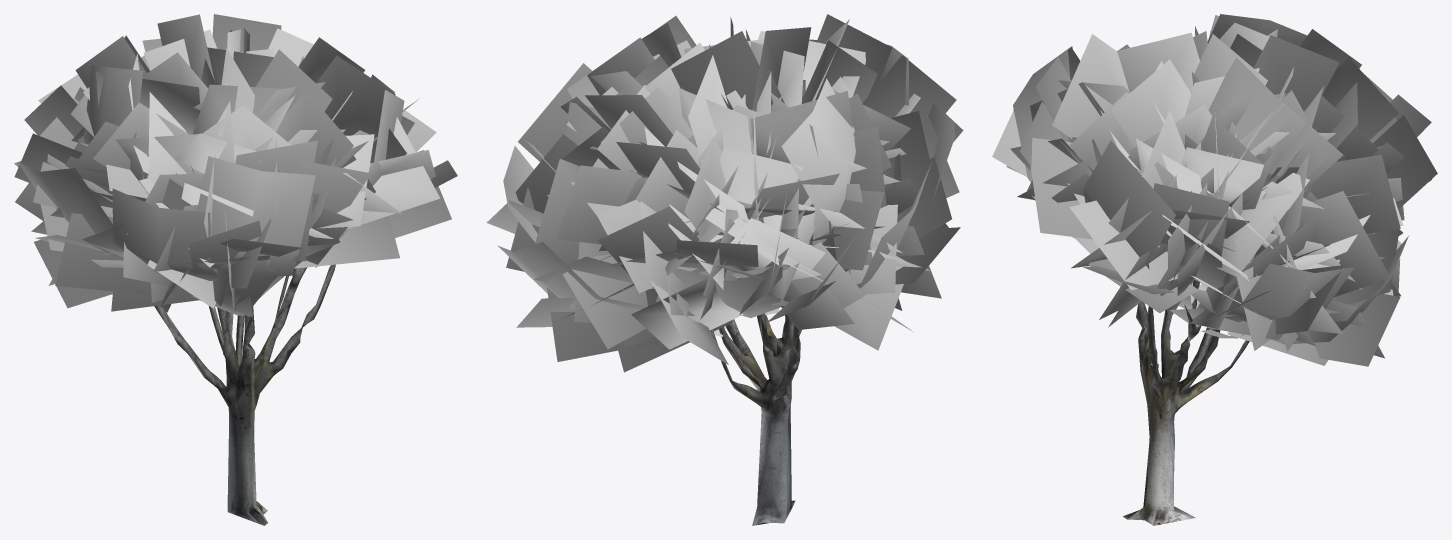
File: prop_tree_lficus_03.obj
3 renders of one model, left to right at view 1: azimuth 30°, elevation 25°; view 2: azimuth 150°, elevation 25°; view 3: azimuth 270°, elevation 25°, orthographic. The views are drawn at different scales.
Size of the model in its own units: 8.1 by 9.44 by 7.84.
